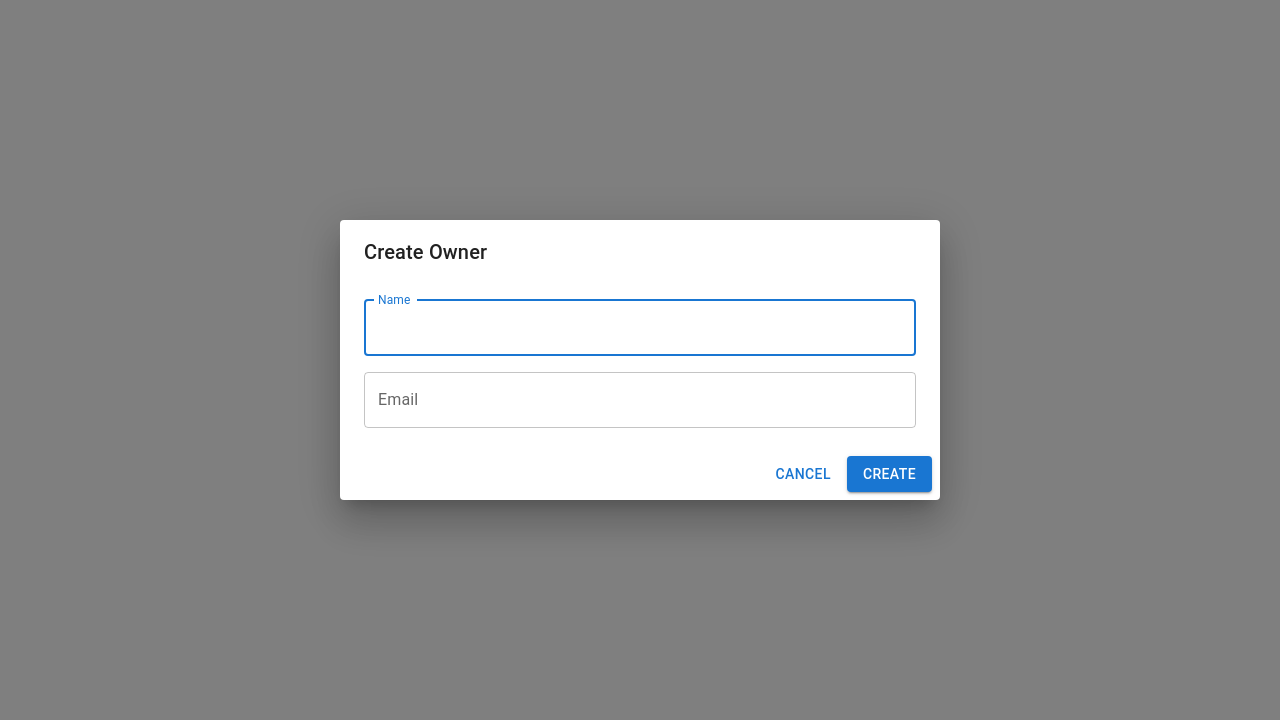
CreateOwnerDialog validation › shows an email format error when the email is missing @
The width and height of the screenshot is (1280, 720).
Type "Alice" into the field labelled "Name".
click(640, 328); type("Alice")  # box [364,300,916,356]
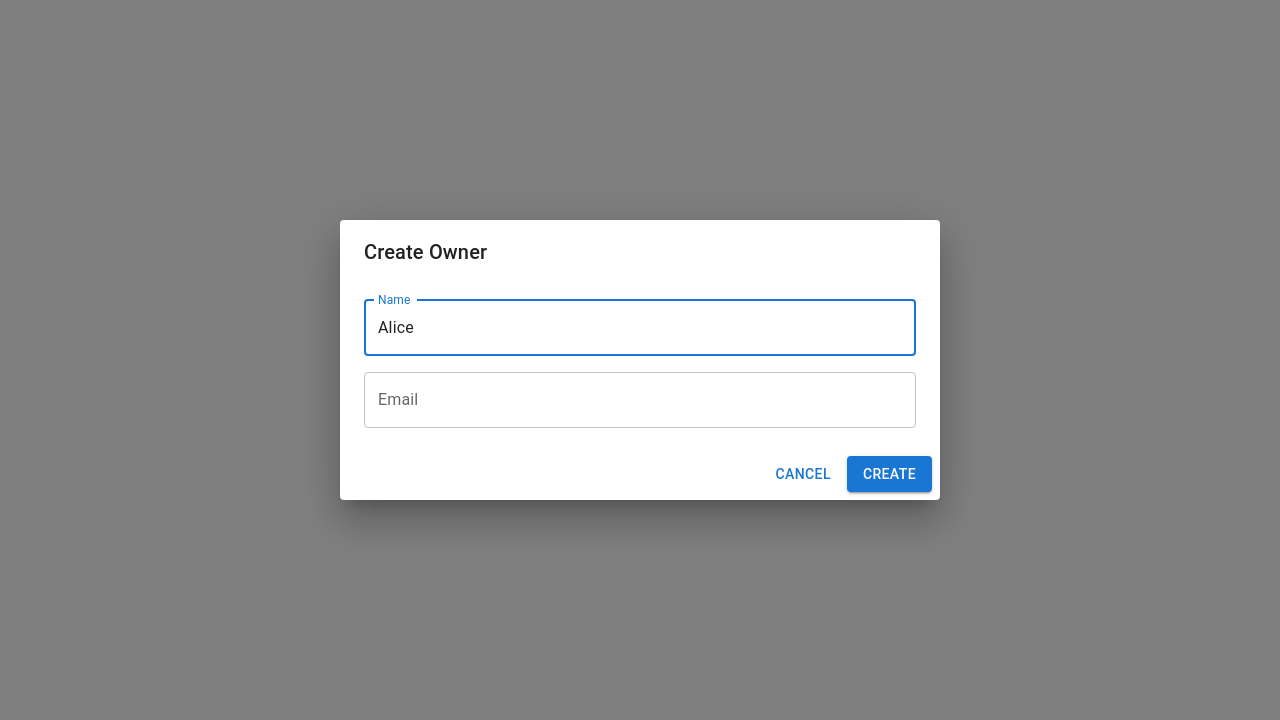
Type "notanemail" into the field labelled "Email".
click(640, 400); type("notanemail")  # box [364,372,916,428]
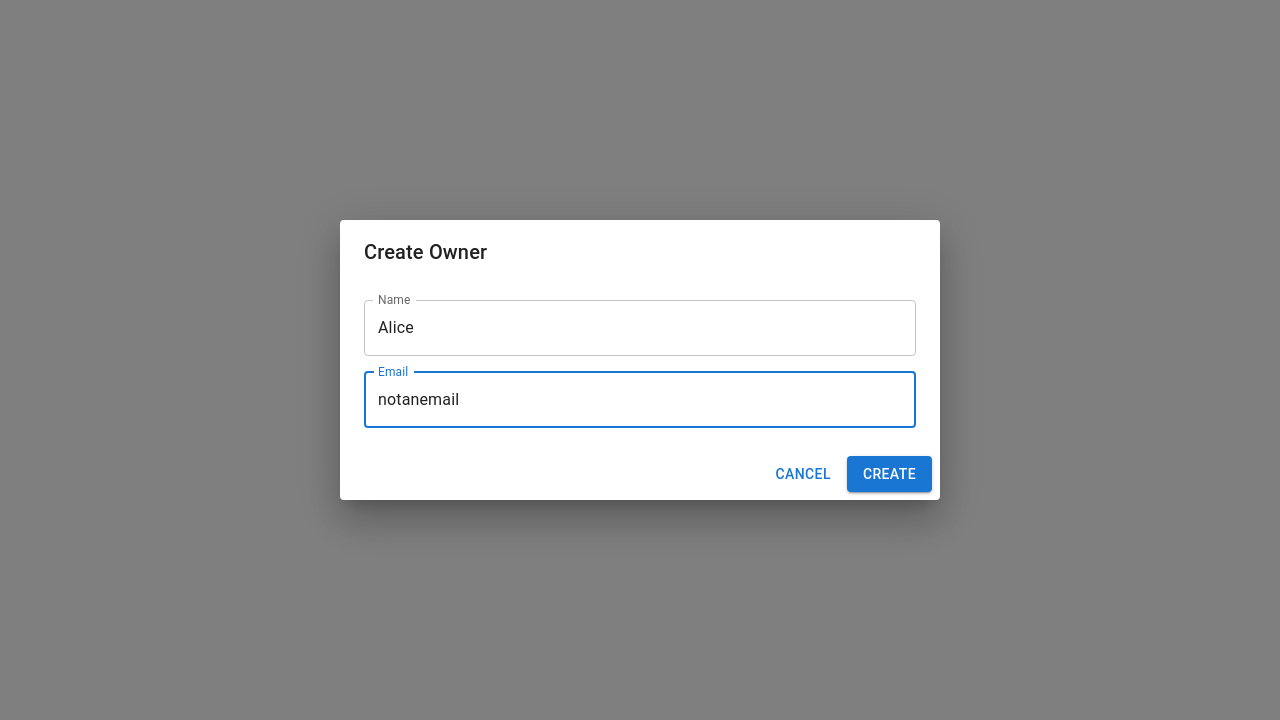
Click the button "Create".
click(889, 474)  # box [847,456,932,492]
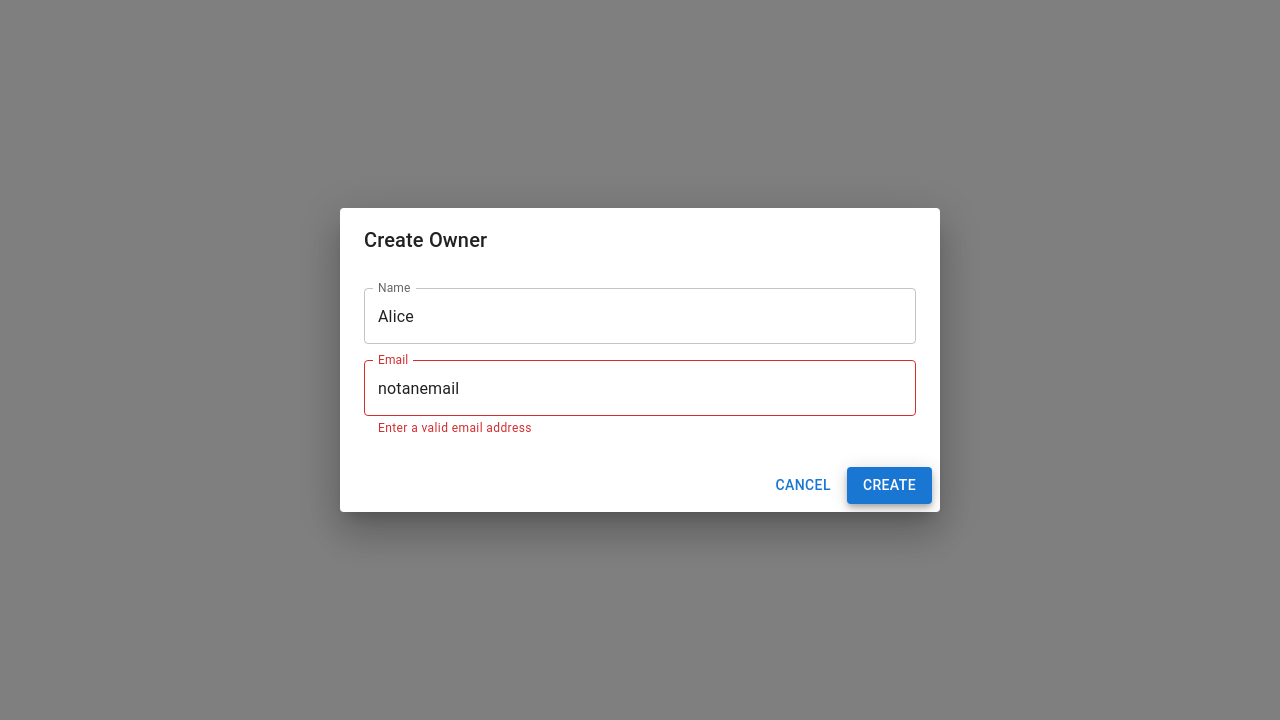
Now the text "Enter a valid email address" is shown, box [378,421,532,435]
